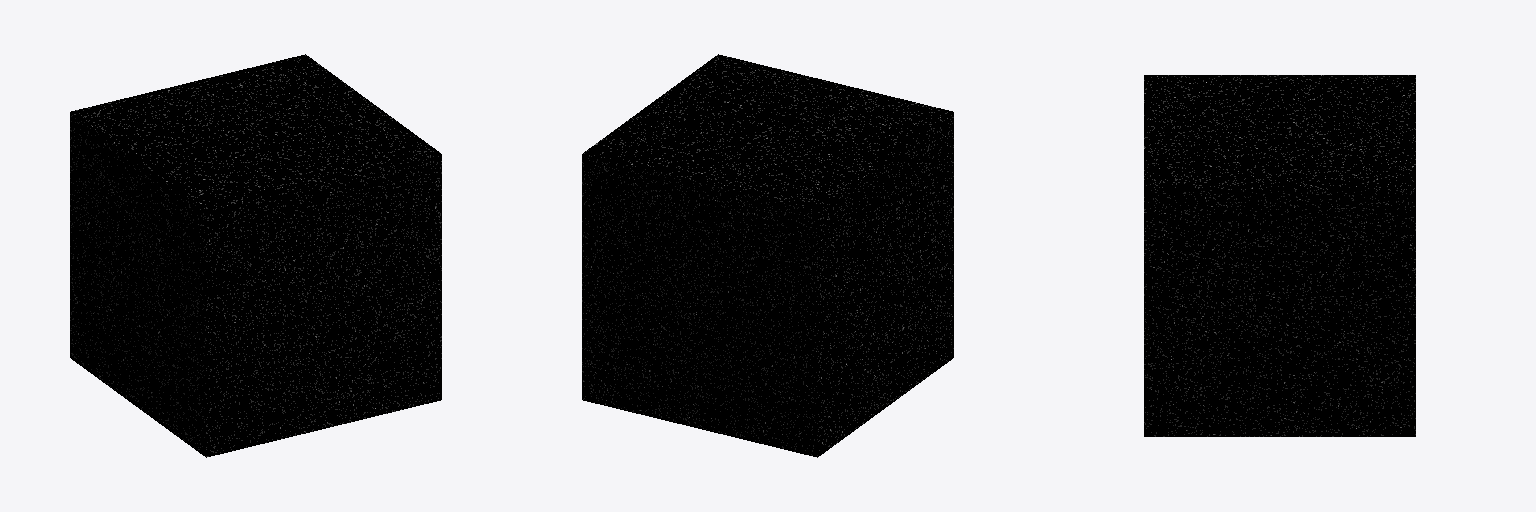
3 renders of one model, left to right at view 1: azimuth 30°, elevation 25°; view 2: azimuth 150°, elevation 25°; view 3: azimuth 270°, elevation 25°, orthographic.
Parts seen in each view (by area): view 1: Cube_Cube.002; view 2: Cube_Cube.002; view 3: Cube_Cube.002.
Part boxes in pixels (x1,y1,x2,y2): Cube_Cube.002: (70,54,441,457); Cube_Cube.002: (582,54,953,457); Cube_Cube.002: (1144,75,1415,436).
Size of the model in its own units: 2 by 2 by 2.
Materials: 1 (1 with a texture image).